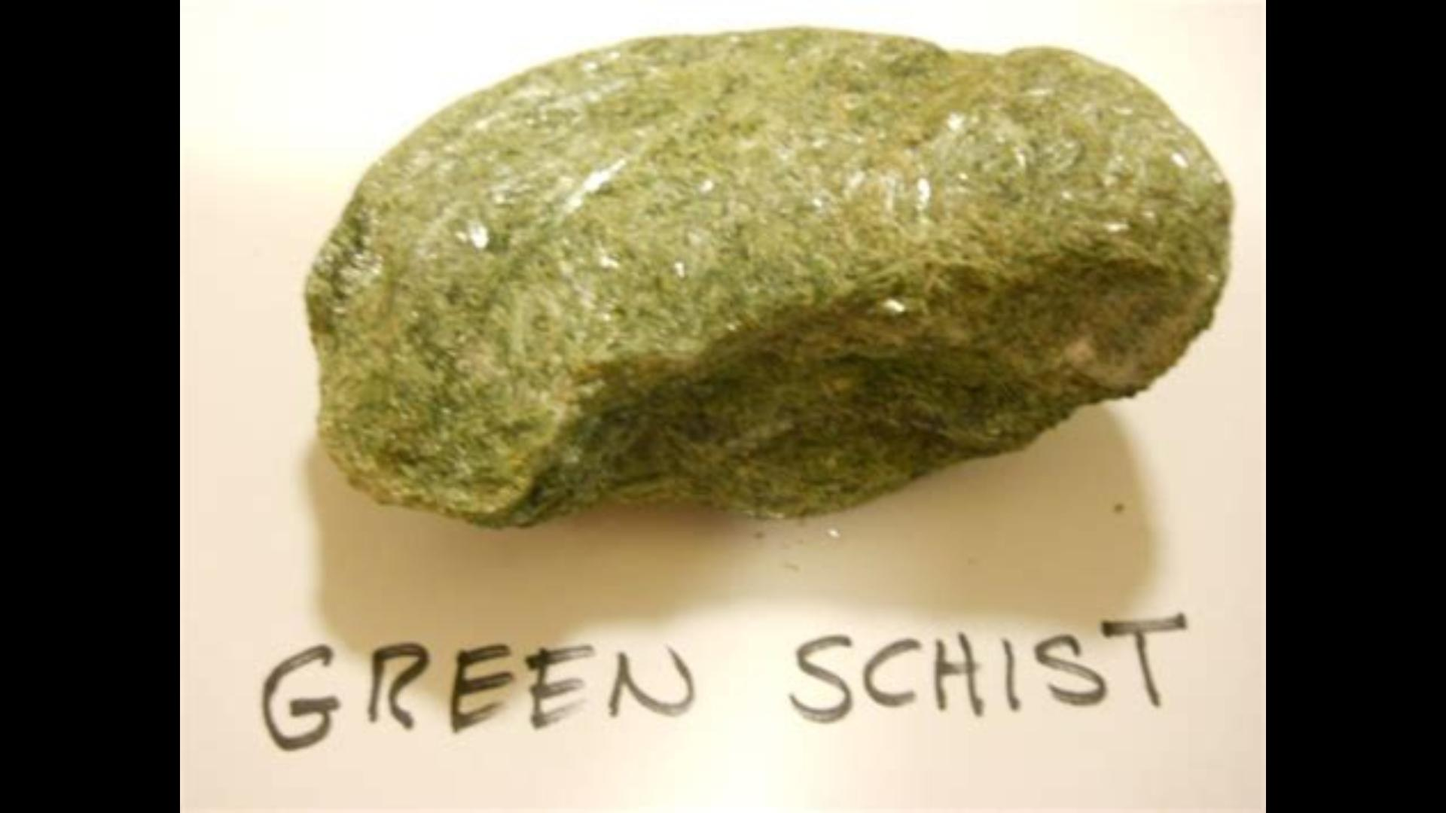rock: (308, 32, 1229, 522)
